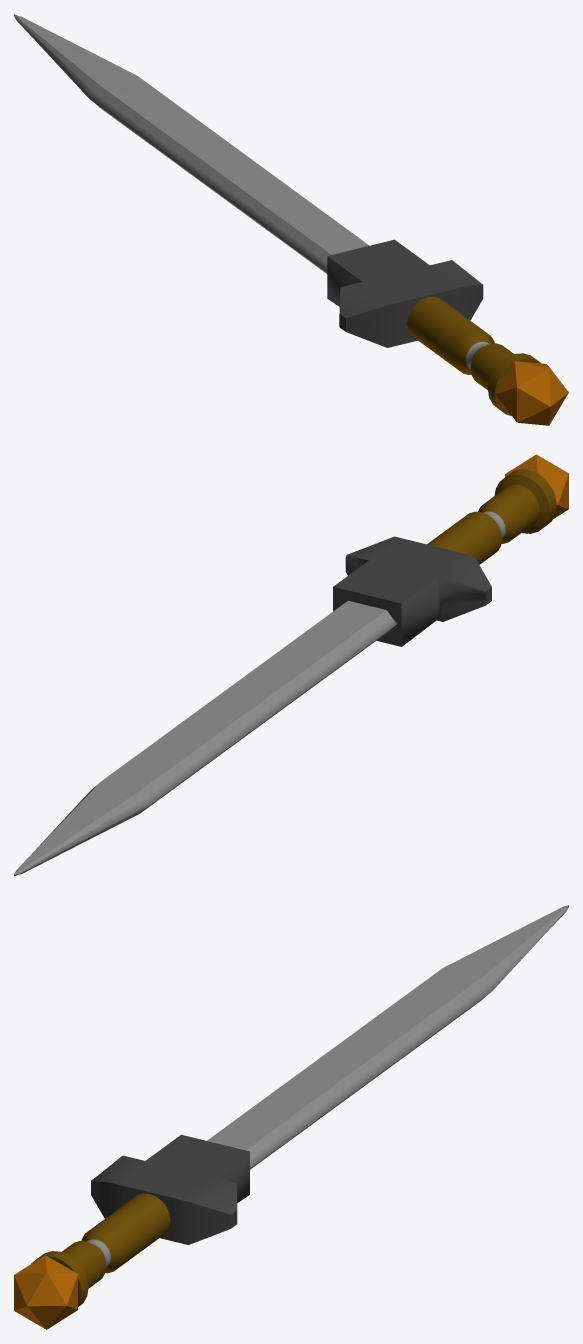
The model's file is medium_sword_w_gap.fbx.
3 renders of one model, top to bottom at view 1: azimuth 30°, elevation 25°; view 2: azimuth 150°, elevation 25°; view 3: azimuth 330°, elevation 25°, orthographic.
Parts seen in each view (by area): view 1: polySurface281; view 2: polySurface281; view 3: polySurface281.
Part boxes in pixels (<box>): polySurface281: <box>14,14,568,425</box>; polySurface281: <box>14,454,568,876</box>; polySurface281: <box>14,905,568,1329</box>.
Bounding box in the file's own units: 41.79 × 16.66 × 281.
